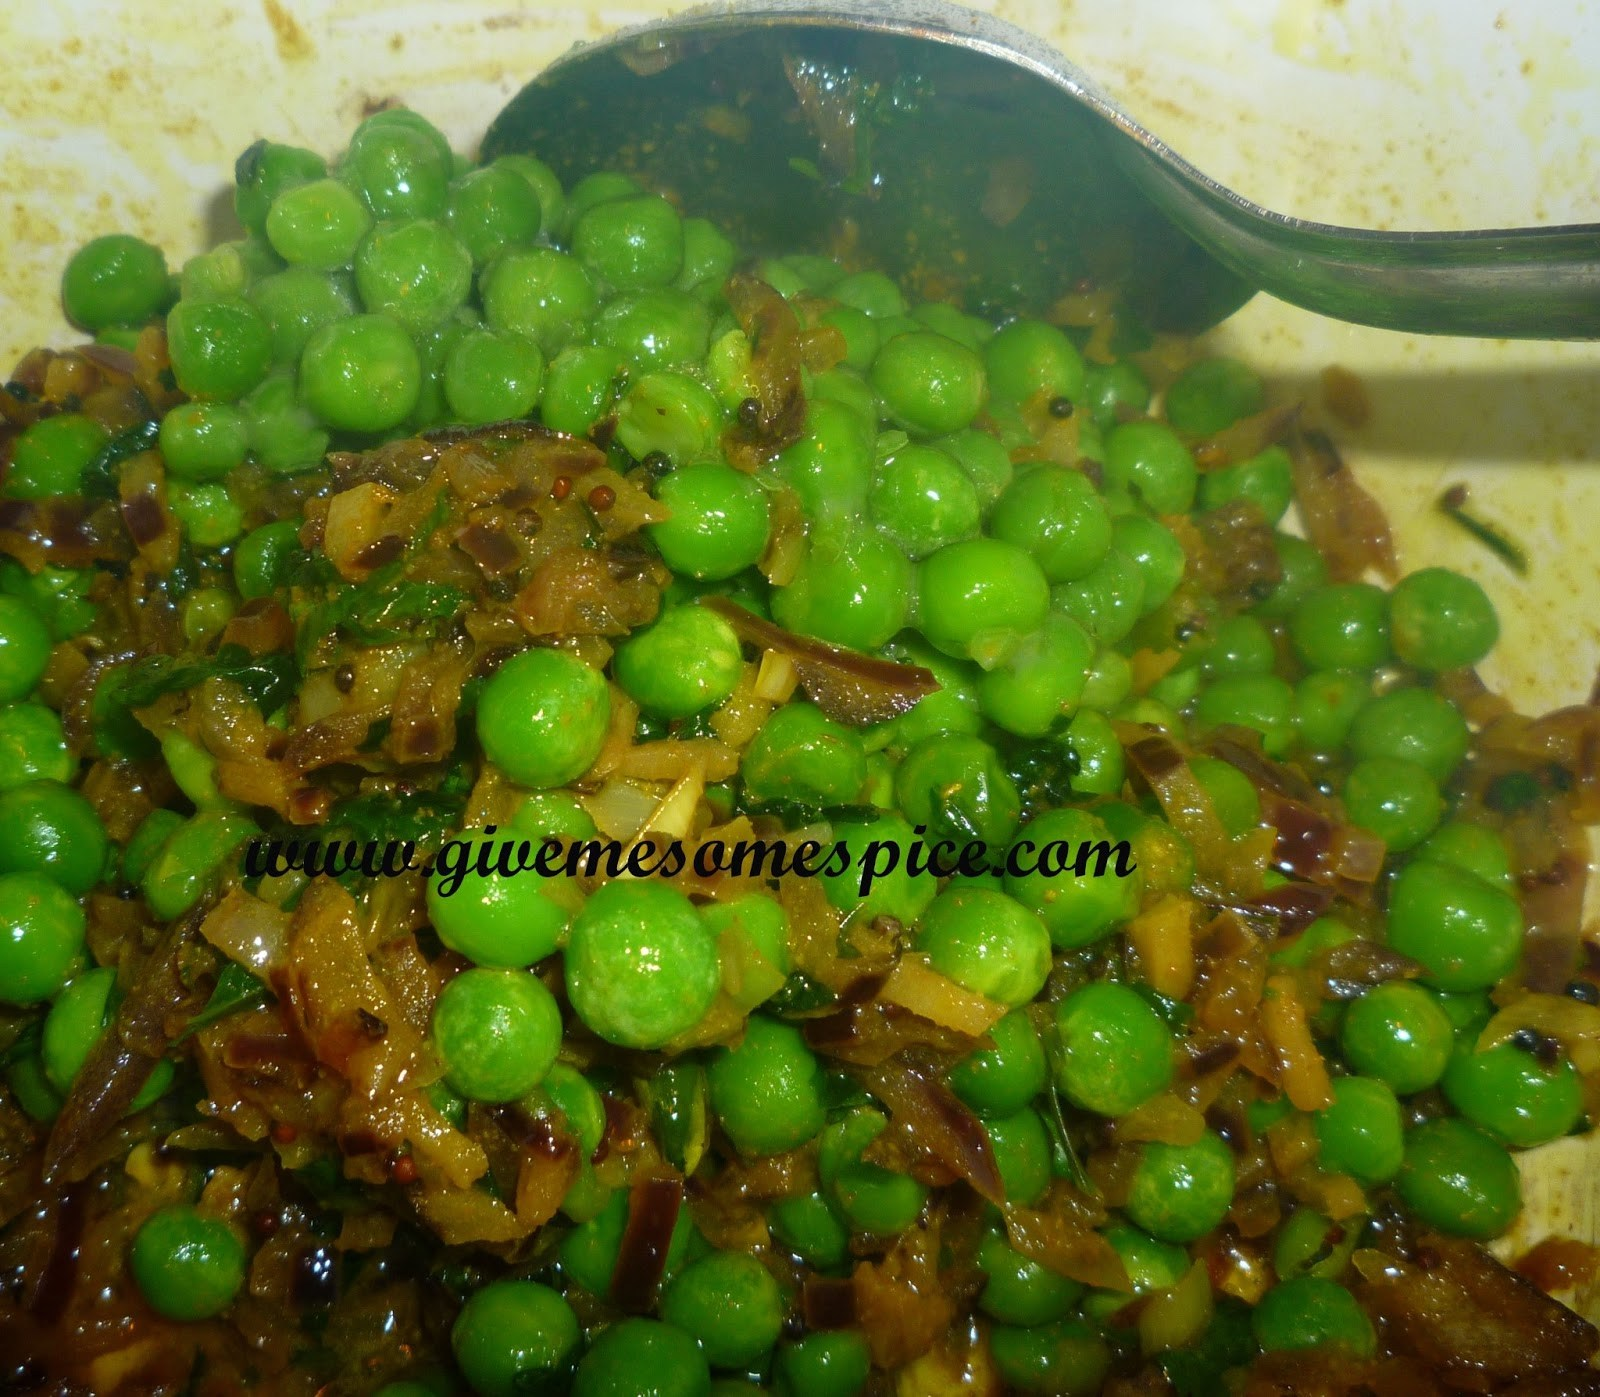boiled peas: (16, 109, 1524, 1362)
